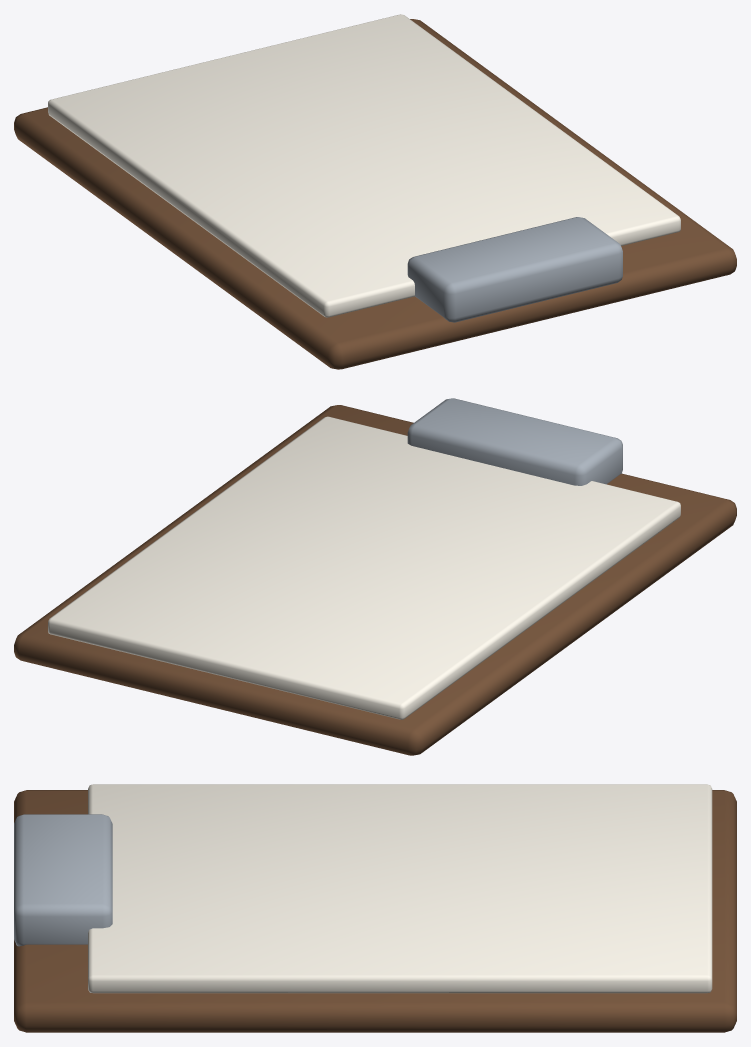
File: Doc_Clipboard.fbx
The picture shows the model from 3 angles, top to bottom: view 1: azimuth 30°, elevation 25°; view 2: azimuth 150°, elevation 25°; view 3: azimuth 270°, elevation 25°; orthographic projection. The views are drawn at different scales.
Visible parts, largest first — view 1: Clipboard_Paper, Clipboard_Board, Clipboard_MetalClip; view 2: Clipboard_Paper, Clipboard_Board, Clipboard_MetalClip; view 3: Clipboard_Paper, Clipboard_Board, Clipboard_MetalClip.
Part boxes in pixels (<box>): Clipboard_Paper: <box>48,14,680,317</box>; Clipboard_Board: <box>14,19,736,369</box>; Clipboard_MetalClip: <box>407,217,622,322</box>; Clipboard_Paper: <box>48,416,680,719</box>; Clipboard_Board: <box>14,405,736,755</box>; Clipboard_MetalClip: <box>407,398,622,485</box>; Clipboard_Paper: <box>88,784,712,993</box>; Clipboard_Board: <box>14,790,736,1032</box>; Clipboard_MetalClip: <box>14,814,112,946</box>.
Bounding box in the file's own units: 6.4 × 0.9 × 8.8.
